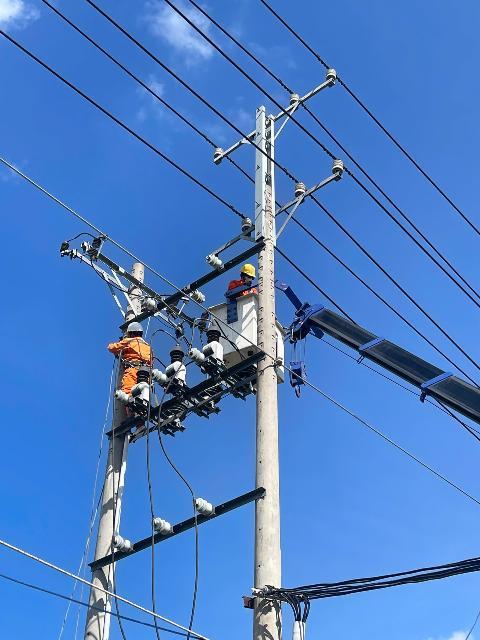gloves: (240, 279, 257, 285)
harness: (127, 360, 145, 367)
helmet: (122, 320, 147, 337), (240, 264, 259, 279)
shoes: (134, 427, 152, 438), (124, 411, 140, 421)
